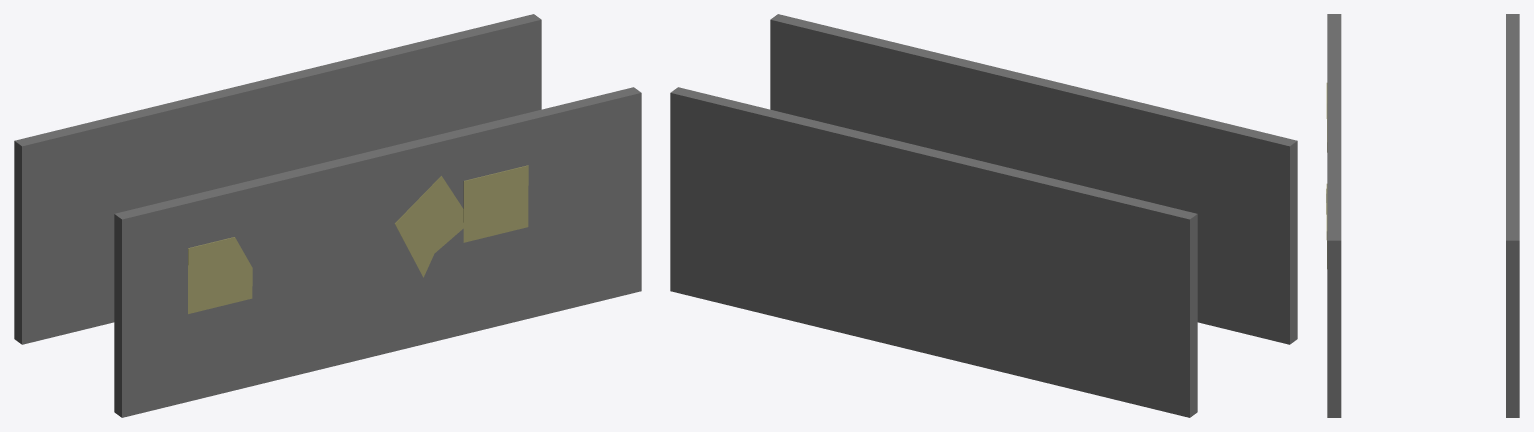
Rendered from wall.fbx.
The picture shows the model from 3 angles, left to right: view 1: azimuth 30°, elevation 25°; view 2: azimuth 150°, elevation 25°; view 3: azimuth 270°, elevation 25°; orthographic projection. The views are drawn at different scales.
Parts seen in each view (by area): view 1: pPlane4, pCube1; view 2: pCube1, pPlane4; view 3: pPlane4, pCube1.
Boxes of the visible parts, x1,y1,x2,y2 form: pPlane4: [114, 87, 641, 417]; pCube1: [14, 14, 541, 344]; pCube1: [670, 87, 1197, 417]; pPlane4: [770, 14, 1297, 344]; pPlane4: [1326, 14, 1341, 417]; pCube1: [1506, 14, 1519, 417].
Bounding box in the file's own units: 1940 × 708 × 701.
